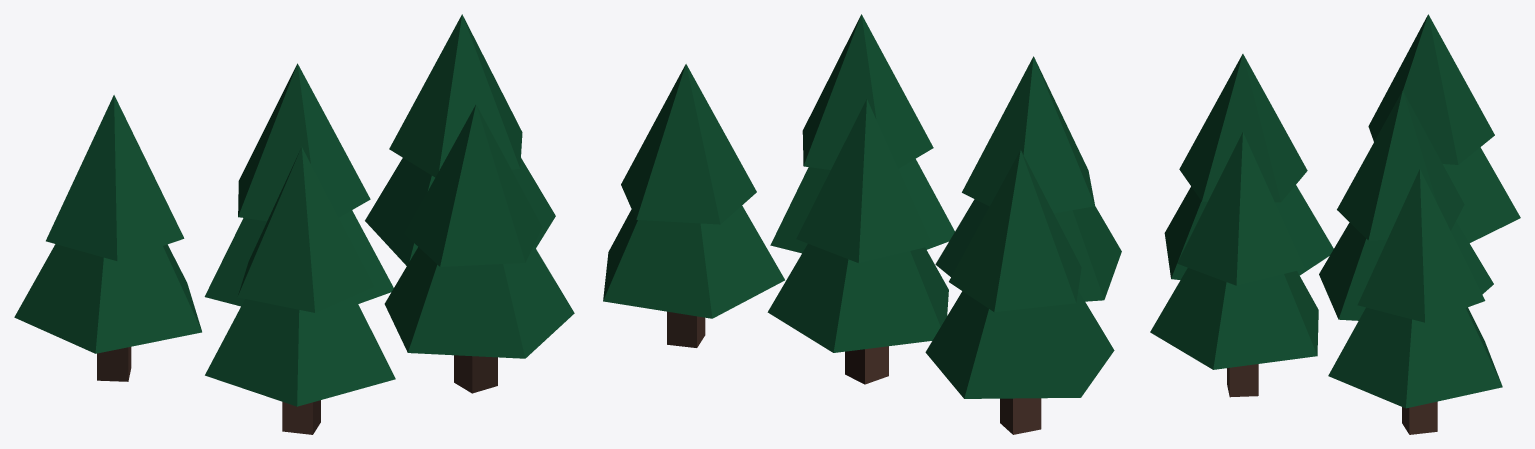
Rendered from TB_Env_TreeDB_A_Large.FBX.
The picture shows the model from 3 angles, left to right: view 1: azimuth 30°, elevation 25°; view 2: azimuth 150°, elevation 25°; view 3: azimuth 270°, elevation 25°; orthographic projection. The views are drawn at different scales.
Visible parts, largest first — view 1: TB_Env_TreeDB_A_Large; view 2: TB_Env_TreeDB_A_Large; view 3: TB_Env_TreeDB_A_Large.
Part boxes in pixels (x1,y1,x2,y2): TB_Env_TreeDB_A_Large: [14, 14, 574, 434]; TB_Env_TreeDB_A_Large: [603, 14, 1121, 434]; TB_Env_TreeDB_A_Large: [1150, 14, 1520, 434].
Size of the model in its own units: 9.49 by 4.98 by 6.47.
